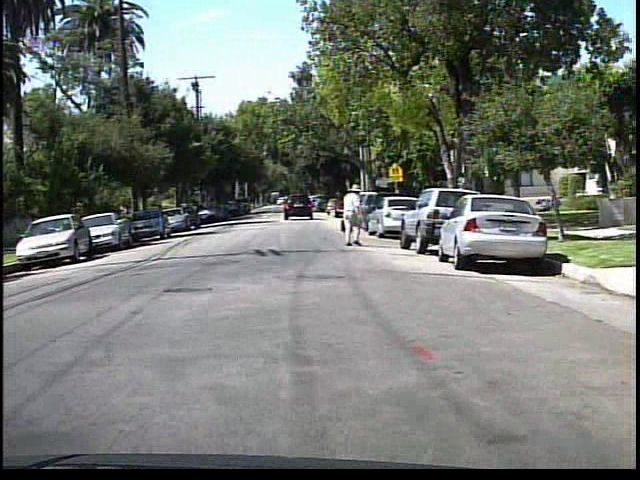person: (336, 183, 370, 249)
